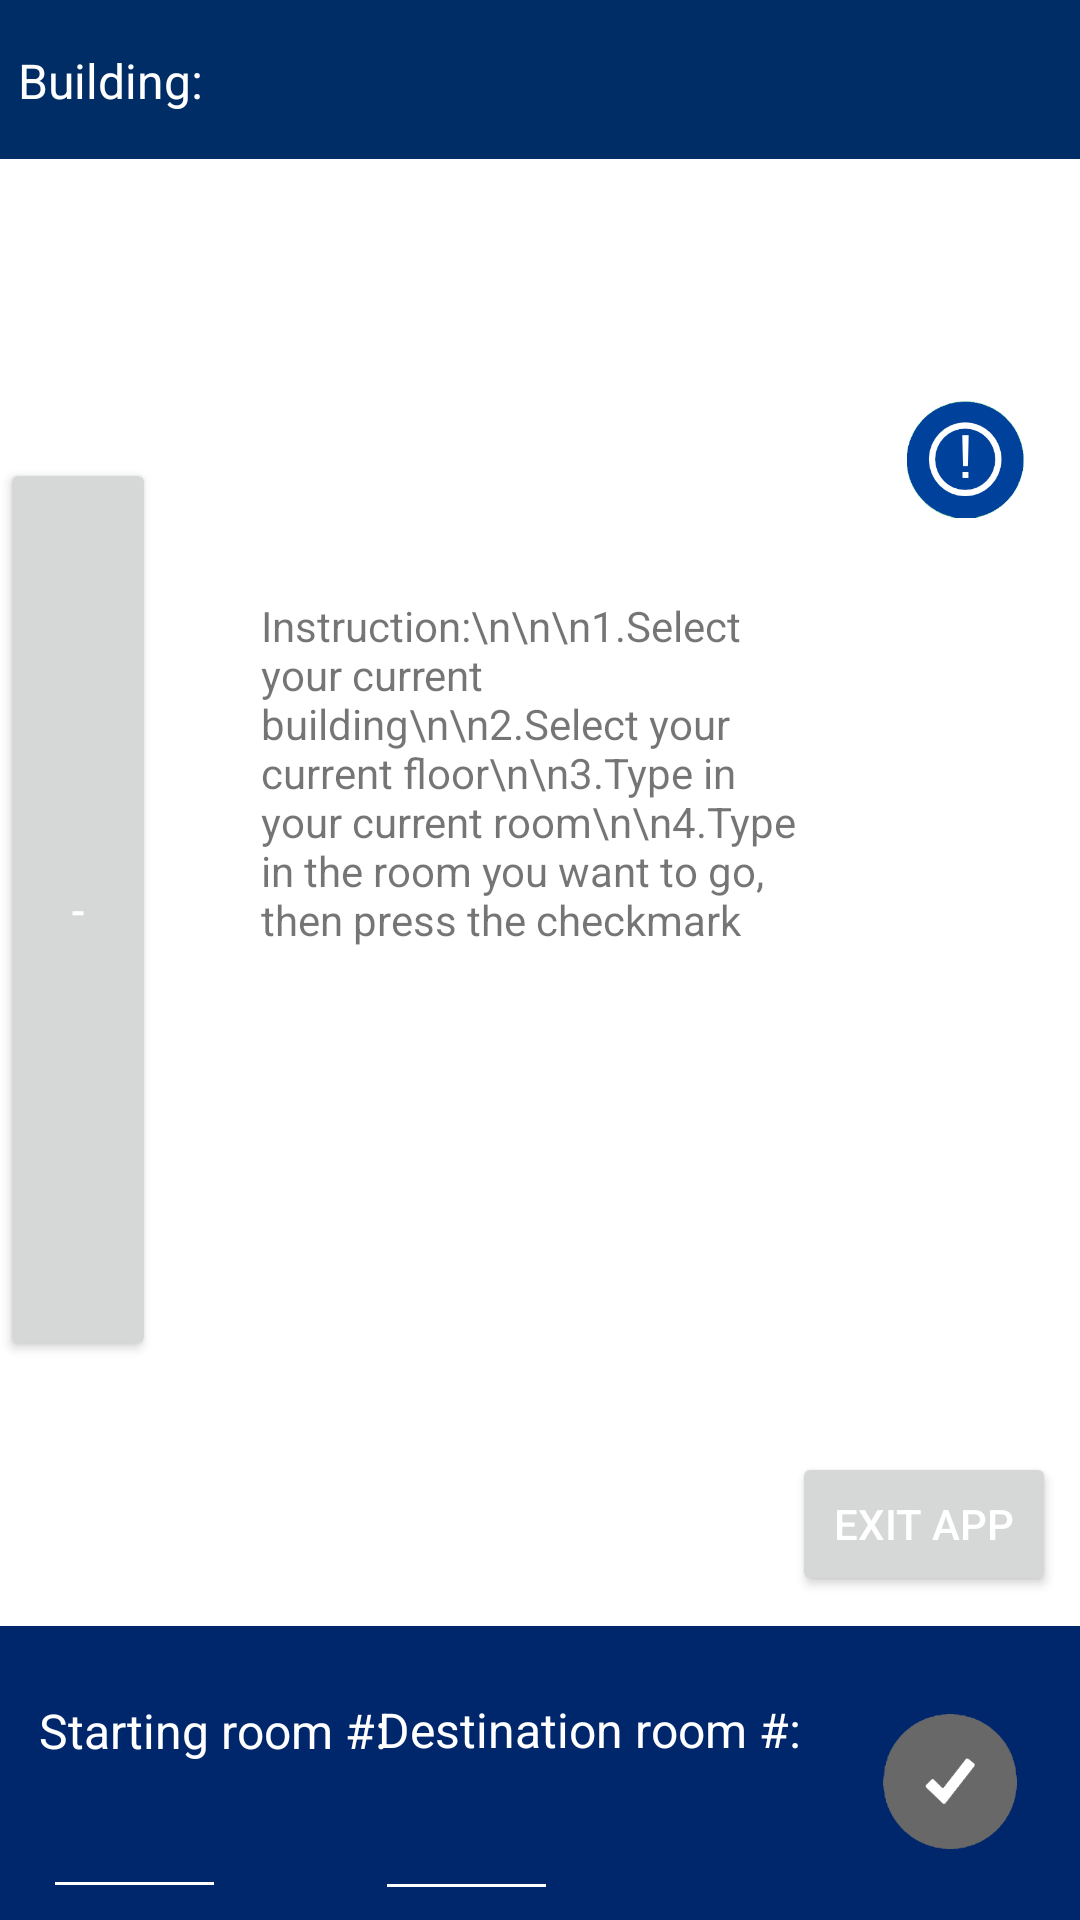

Icons on this 1080 × 1920 Android screen, each with the point to tap as (x,y):
about app: (965,459)
check: (950,1781)
